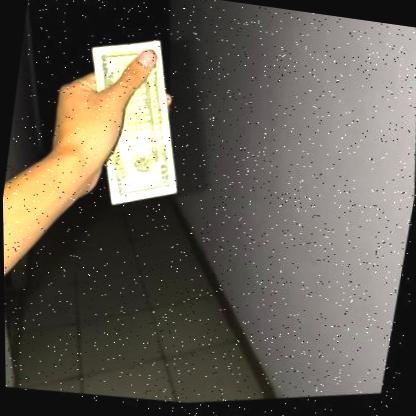twenty-back: (59, 23, 207, 222)
